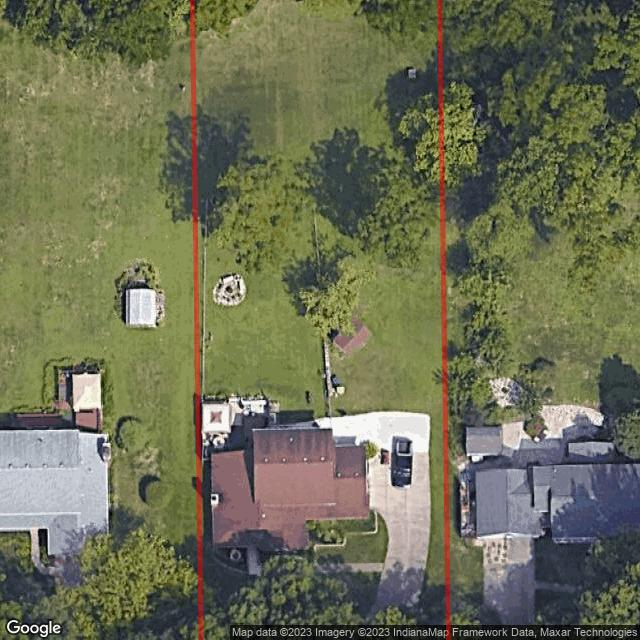Driveway: (316, 410, 430, 625)
House: (211, 422, 369, 553)
Other: (204, 395, 279, 456), (334, 319, 370, 353), (214, 275, 245, 306), (229, 549, 241, 562), (409, 69, 416, 79)
Sidewalk: (260, 562, 383, 575), (246, 551, 264, 576)
